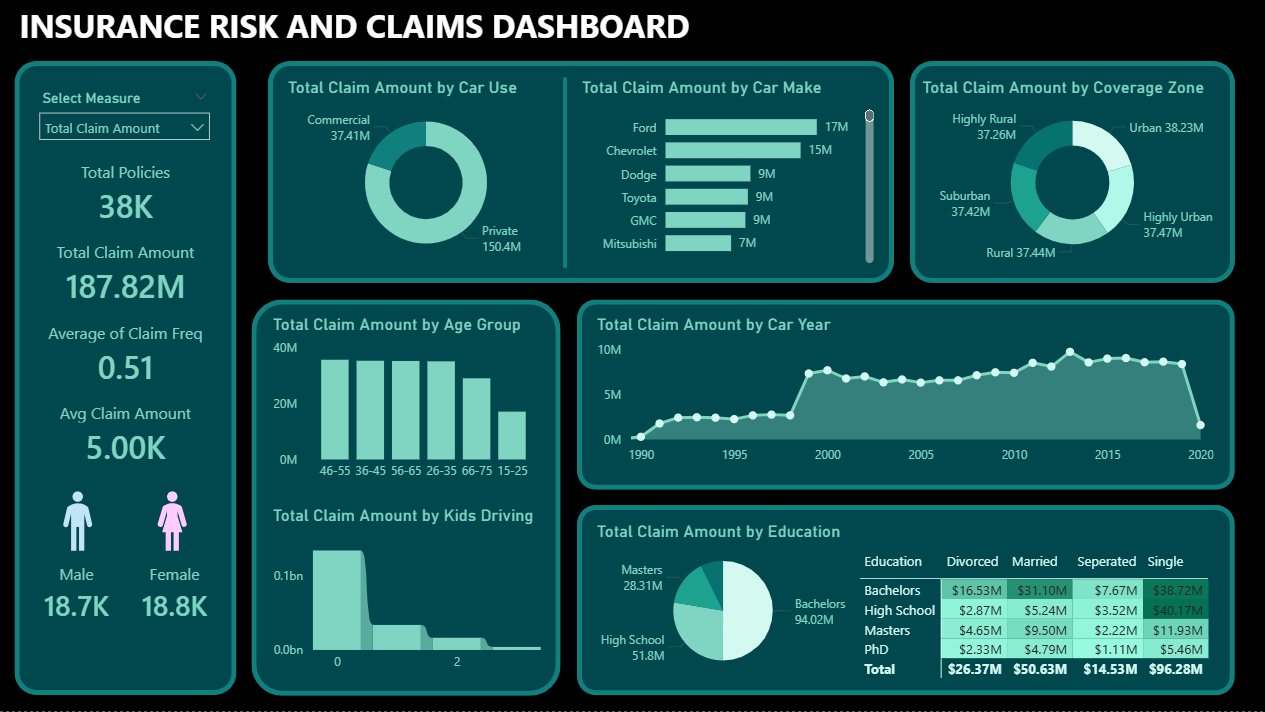

Layout of this report page (visuals, bound fields, positions):
{"tool":"powerbi","page":{"name":"Page 1","canvas":[1280,720],"ordinal":0},"visuals":[{"type":"textbox","box":[16,0,736,64],"z":0},{"type":"shape","box":[16,64,224,640],"z":1000},{"type":"cardVisual","fields":{"Data":["insurance_data_car.Total Policies","insurance_data_car.Total Claim Amount","Avg(insurance_data_car.Claim Freq)","insurance_data_car.Avg Claim Amount"]},"box":[16,144,224,352],"z":2000},{"type":"cardVisual","fields":{"Data":["insurance_data_car.Male Count","insurance_data_car.Female Count"]},"box":[16,528,224,144],"z":3000},{"type":"image","box":[48,480,64,96],"z":4000},{"type":"image","box":[144,480,64,96],"z":5000},{"type":"shape","box":[272,64,632,224],"z":6000},{"type":"shape","box":[256,304,312,400],"z":7000},{"type":"shape","box":[920,64,328,224],"z":8000},{"type":"shape","box":[584,304,664,192],"z":9000},{"type":"shape","box":[584,512,664,192],"z":10000},{"type":"donutChart","fields":{"Y":["insurance_data_car.Total Claim Amount"],"Category":["insurance_data_car.Car Use"]},"box":[288,80,288,192],"z":11000},{"type":"barChart","fields":{"Category":["insurance_data_car.Car Make"],"Y":["insurance_data_car.Total Claim Amount"]},"box":[584,80,304,192],"z":12000},{"type":"columnChart","fields":{"Y":["insurance_data_car.Total Claim Amount"],"Category":["insurance_data_car.Age Group"]},"box":[272,320,280,176],"z":13000},{"type":"columnChart","fields":{"Y":["insurance_data_car.Total Claim Amount"],"Category":["insurance_data_car.Kids Driving"]},"box":[272,512,280,176],"z":14000},{"type":"lineChart","fields":{"Y":["insurance_data_car.Total Claim Amount"],"Category":["insurance_data_car.Car Year"]},"box":[600,320,632,160],"z":15000},{"type":"donutChart","fields":{"Y":["insurance_data_car.Total Claim Amount"],"Category":["insurance_data_car.Coverage Zone"]},"box":[928,80,312,192],"z":16000},{"type":"pieChart","fields":{"Y":["insurance_data_car.Total Claim Amount"],"Category":["insurance_data_car.Education"]},"box":[600,528,264,160],"z":17000},{"type":"pivotTable","fields":{"Values":["insurance_data_car.Total Claim Amount"],"Rows":["insurance_data_car.Education"],"Columns":["insurance_data_car.Marital Status"]},"box":[864,552,368,144],"z":18000},{"type":"slicer","fields":{"Values":["Select Measure.Select Measure"]},"box":[32,88,192,80],"z":19000},{"type":"shape","box":[472,80,200,192],"z":20000}]}

Visuals, with their boxes in screenshot pixels (x1, y1, x2, y2), scaled from the page's 1280x720 canvas onto the 1265x712 screenshot:
textbox: (x1=16, y1=0, x2=743, y2=63)
shape: (x1=16, y1=63, x2=237, y2=696)
cardVisual - insurance_data_car.Total Policies x insurance_data_car.Total Claim Amount: (x1=16, y1=142, x2=237, y2=490)
cardVisual - insurance_data_car.Male Count x insurance_data_car.Female Count: (x1=16, y1=522, x2=237, y2=665)
image: (x1=47, y1=475, x2=111, y2=570)
image: (x1=142, y1=475, x2=206, y2=570)
shape: (x1=269, y1=63, x2=893, y2=285)
shape: (x1=253, y1=301, x2=561, y2=696)
shape: (x1=909, y1=63, x2=1233, y2=285)
shape: (x1=577, y1=301, x2=1233, y2=490)
shape: (x1=577, y1=506, x2=1233, y2=696)
donutChart - insurance_data_car.Total Claim Amount x insurance_data_car.Car Use: (x1=285, y1=79, x2=569, y2=269)
barChart - insurance_data_car.Car Make x insurance_data_car.Total Claim Amount: (x1=577, y1=79, x2=878, y2=269)
columnChart - insurance_data_car.Total Claim Amount x insurance_data_car.Age Group: (x1=269, y1=316, x2=546, y2=490)
columnChart - insurance_data_car.Total Claim Amount x insurance_data_car.Kids Driving: (x1=269, y1=506, x2=546, y2=680)
lineChart - insurance_data_car.Total Claim Amount x insurance_data_car.Car Year: (x1=593, y1=316, x2=1218, y2=475)
donutChart - insurance_data_car.Total Claim Amount x insurance_data_car.Coverage Zone: (x1=917, y1=79, x2=1225, y2=269)
pieChart - insurance_data_car.Total Claim Amount x insurance_data_car.Education: (x1=593, y1=522, x2=854, y2=680)
pivotTable - insurance_data_car.Total Claim Amount x insurance_data_car.Education: (x1=854, y1=546, x2=1218, y2=688)
slicer - Select Measure.Select Measure: (x1=32, y1=87, x2=221, y2=166)
shape: (x1=466, y1=79, x2=664, y2=269)
